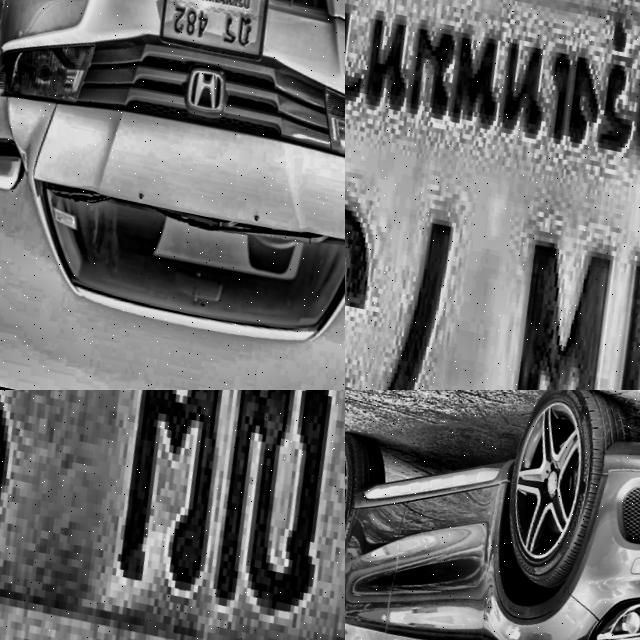license-plate: (345, 0, 640, 390), (0, 390, 345, 640), (143, 0, 276, 67)
